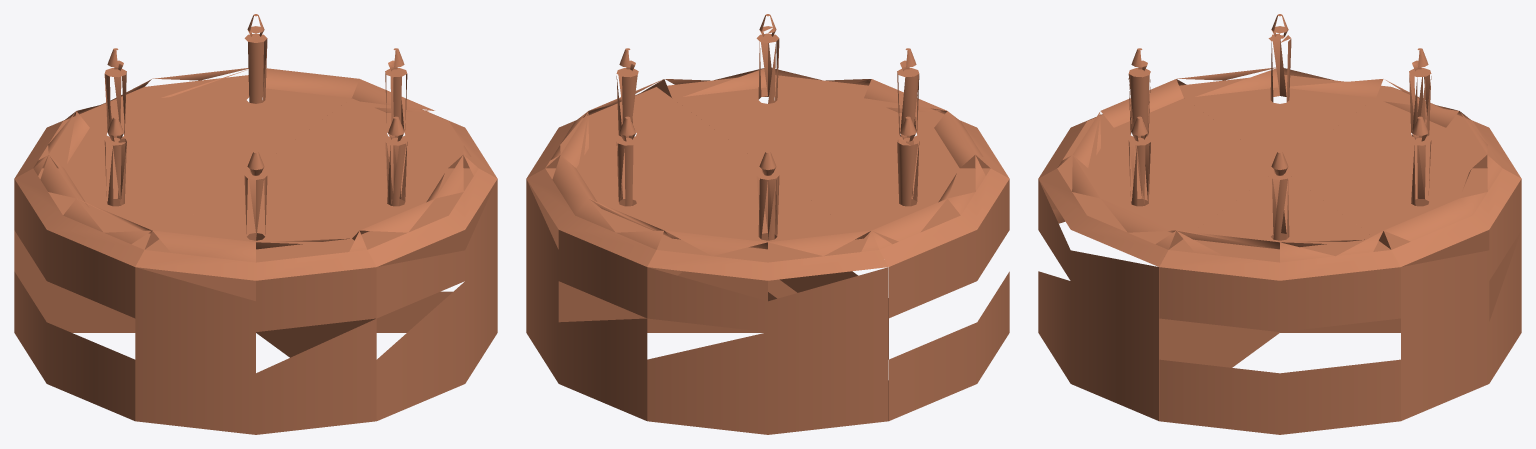
The model's file is polypizza-cake.glb.
3 views of the same model, side by side, from view 1: azimuth 30°, elevation 25°; view 2: azimuth 150°, elevation 25°; view 3: azimuth 270°, elevation 25° (orthographic).
Parts seen in each view (by area): view 1: slice; view 2: slice; view 3: slice.
Part boxes in pixels (bbox=[...]): slice: bbox=[14, 14, 497, 434]; slice: bbox=[526, 14, 1009, 434]; slice: bbox=[1038, 14, 1521, 434].
Bounding box in the file's own units: 1 × 0.5692 × 1.
